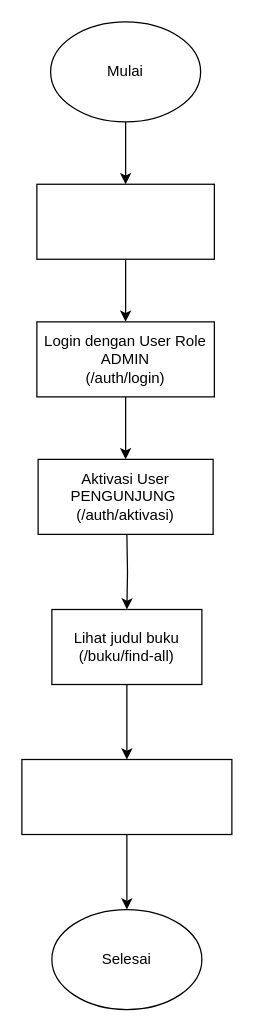
Image size: 254x1033. Some labels were removed from this diagram. Each missing label, with the centre of its shape:
Buat User dengan Role "PENGUNJUNG" (/auth/register): pixel 125 221
Pinjam buku melalui ADMIN (/riwayat-peminjaman/pinjam): pixel 126 796
